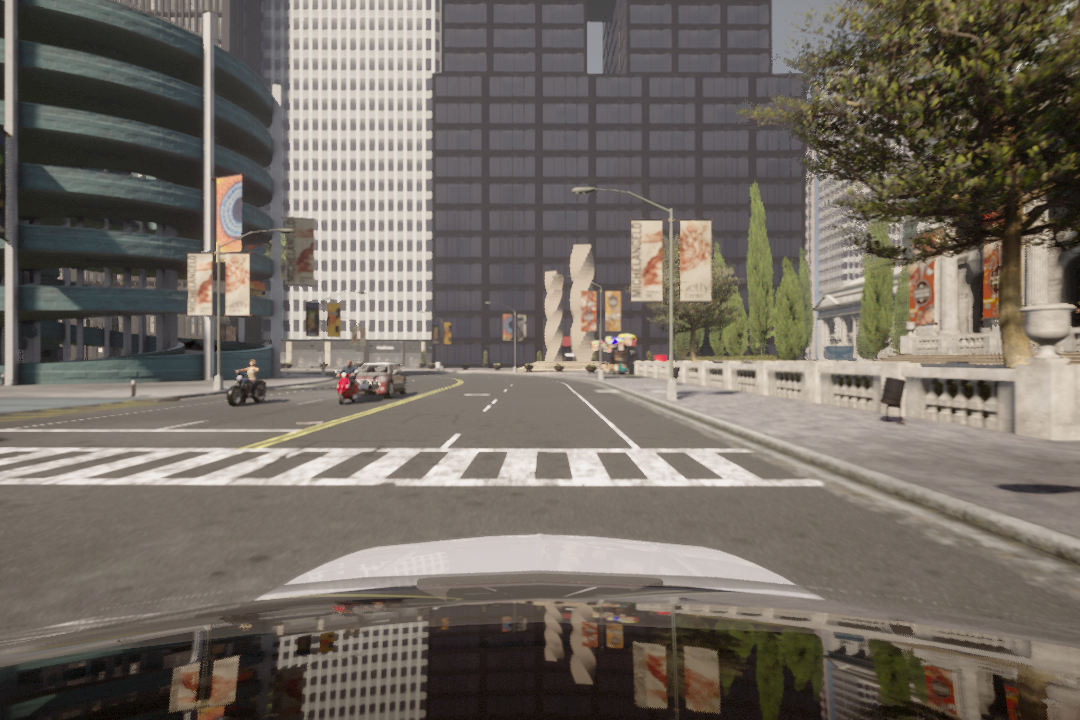walkside: (1, 441, 831, 492)
